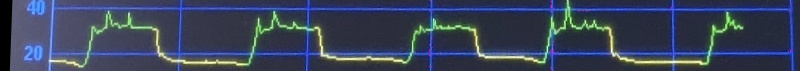hydrop_pressure: (32, 4, 751, 71)
